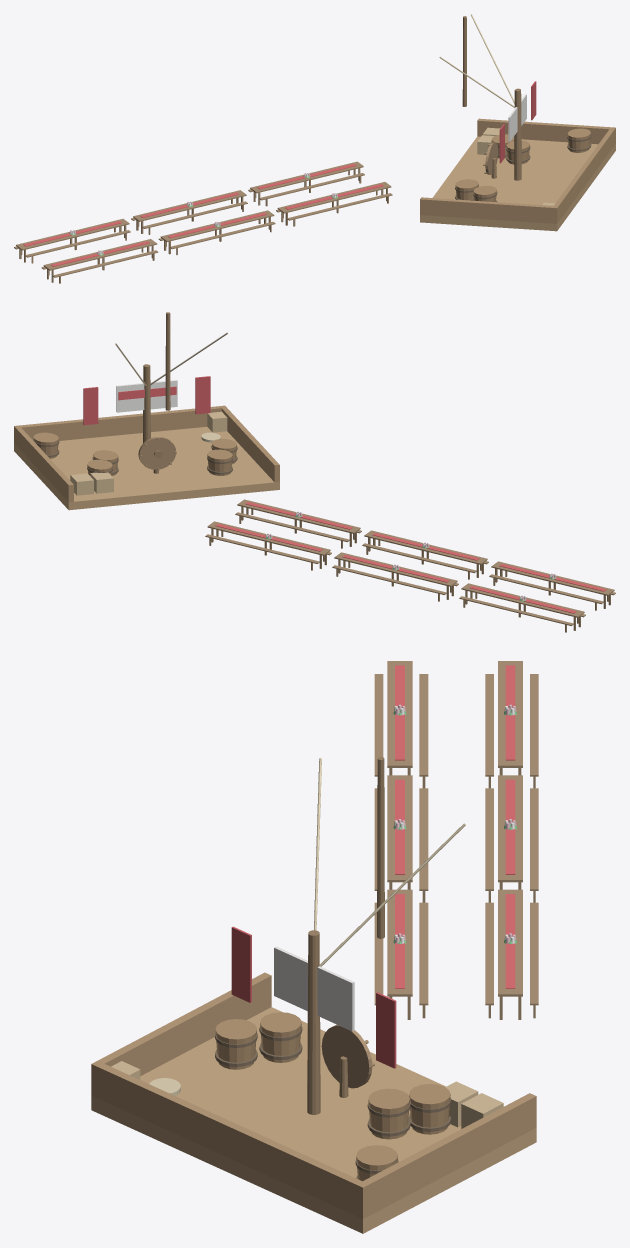
Rendered from bts.glb.
3 renders of one model, top to bottom at view 1: azimuth 30°, elevation 25°; view 2: azimuth 150°, elevation 25°; view 3: azimuth 270°, elevation 25°, orthographic. The views are drawn at different scales.
Visible parts, largest first — view 1: Geom3D (×21); view 2: Geom3D (×25); view 3: Geom3D (×38).
Part boxes in pixels (box(x1,y1,x2,y2)): Geom3D (×21): box(16, 16, 615, 277); Geom3D (×25): box(14, 312, 614, 625); Geom3D (×38): box(91, 661, 538, 1233).
Size of the model in its own units: 36.18 by 10.34 by 12.51.
